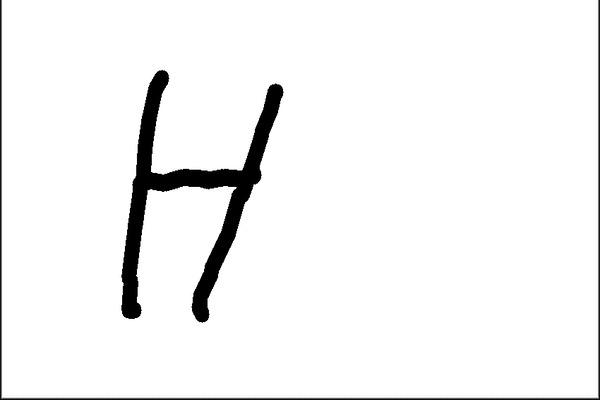H: (110, 63, 286, 326)
